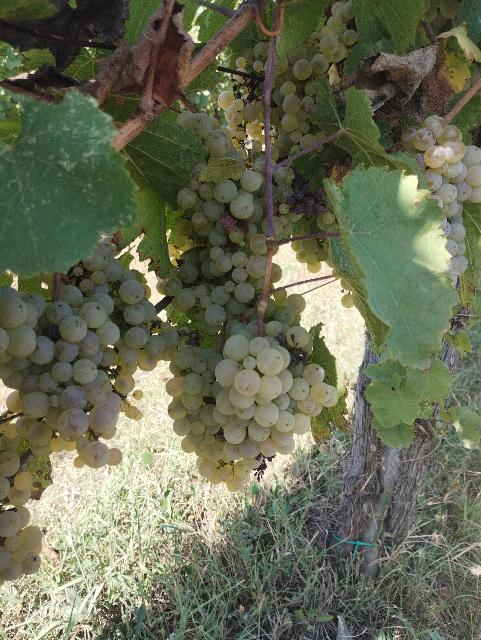grapes: (0, 250, 149, 479), (166, 324, 339, 491), (401, 115, 481, 280)
